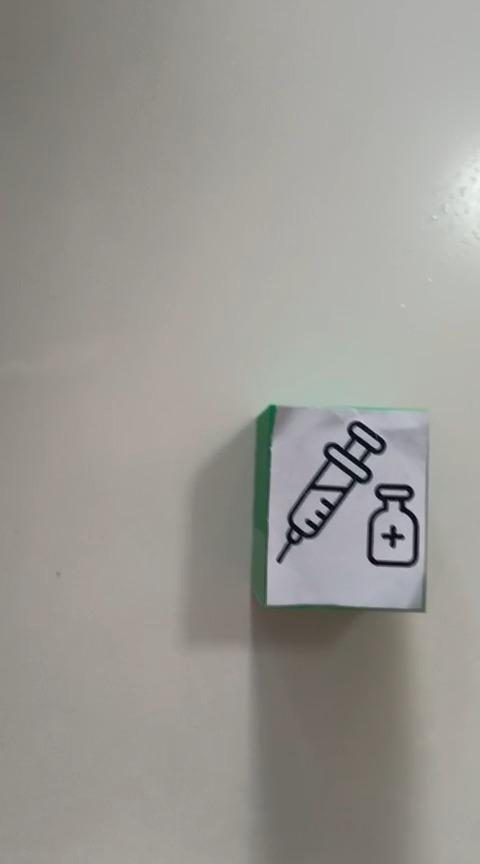antiseptic cream: (251, 403, 429, 612)
